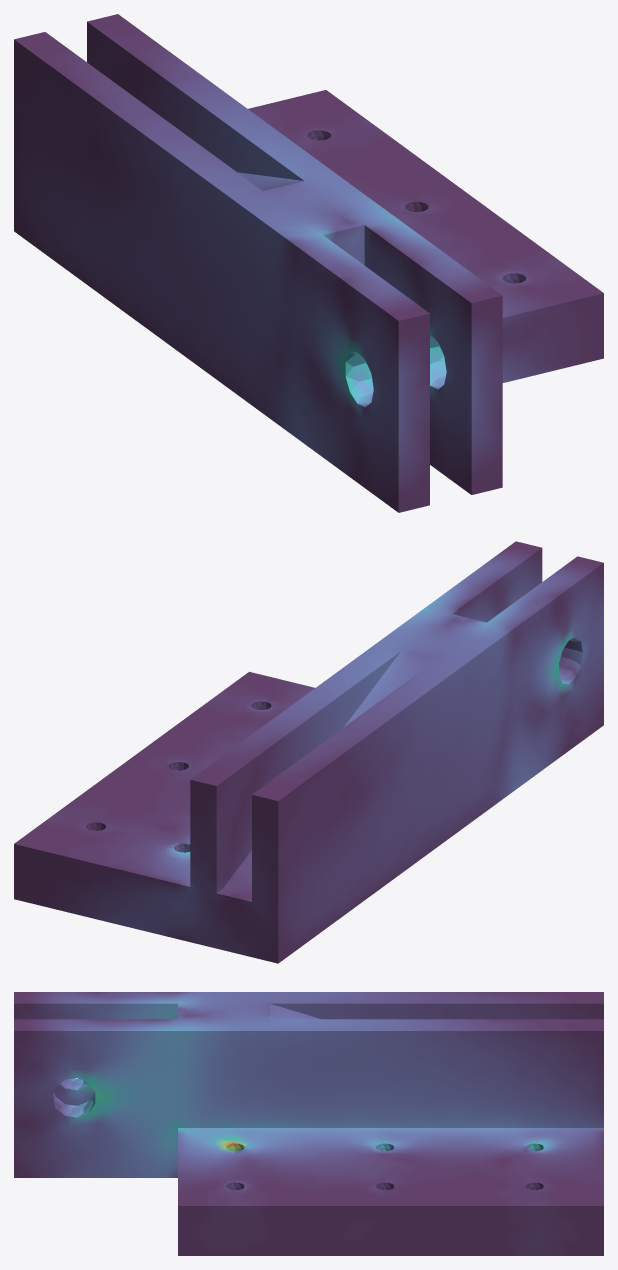
Rendered from CAD_F-CLV-RS.glb.
3 views of the same model, one above another, from view 1: azimuth 30°, elevation 25°; view 2: azimuth 150°, elevation 25°; view 3: azimuth 270°, elevation 25° (orthographic). The views are drawn at different scales.
Parts seen in each view (by area): view 1: geometry_0; view 2: geometry_0; view 3: geometry_0.
Part boxes in pixels (x1,y1,x2,y2): geometry_0: (14,14,603,512); geometry_0: (14,541,603,963); geometry_0: (14,992,603,1255).
Bounding box in the file's own units: 0.12 × 0.0705 × 0.2562.
